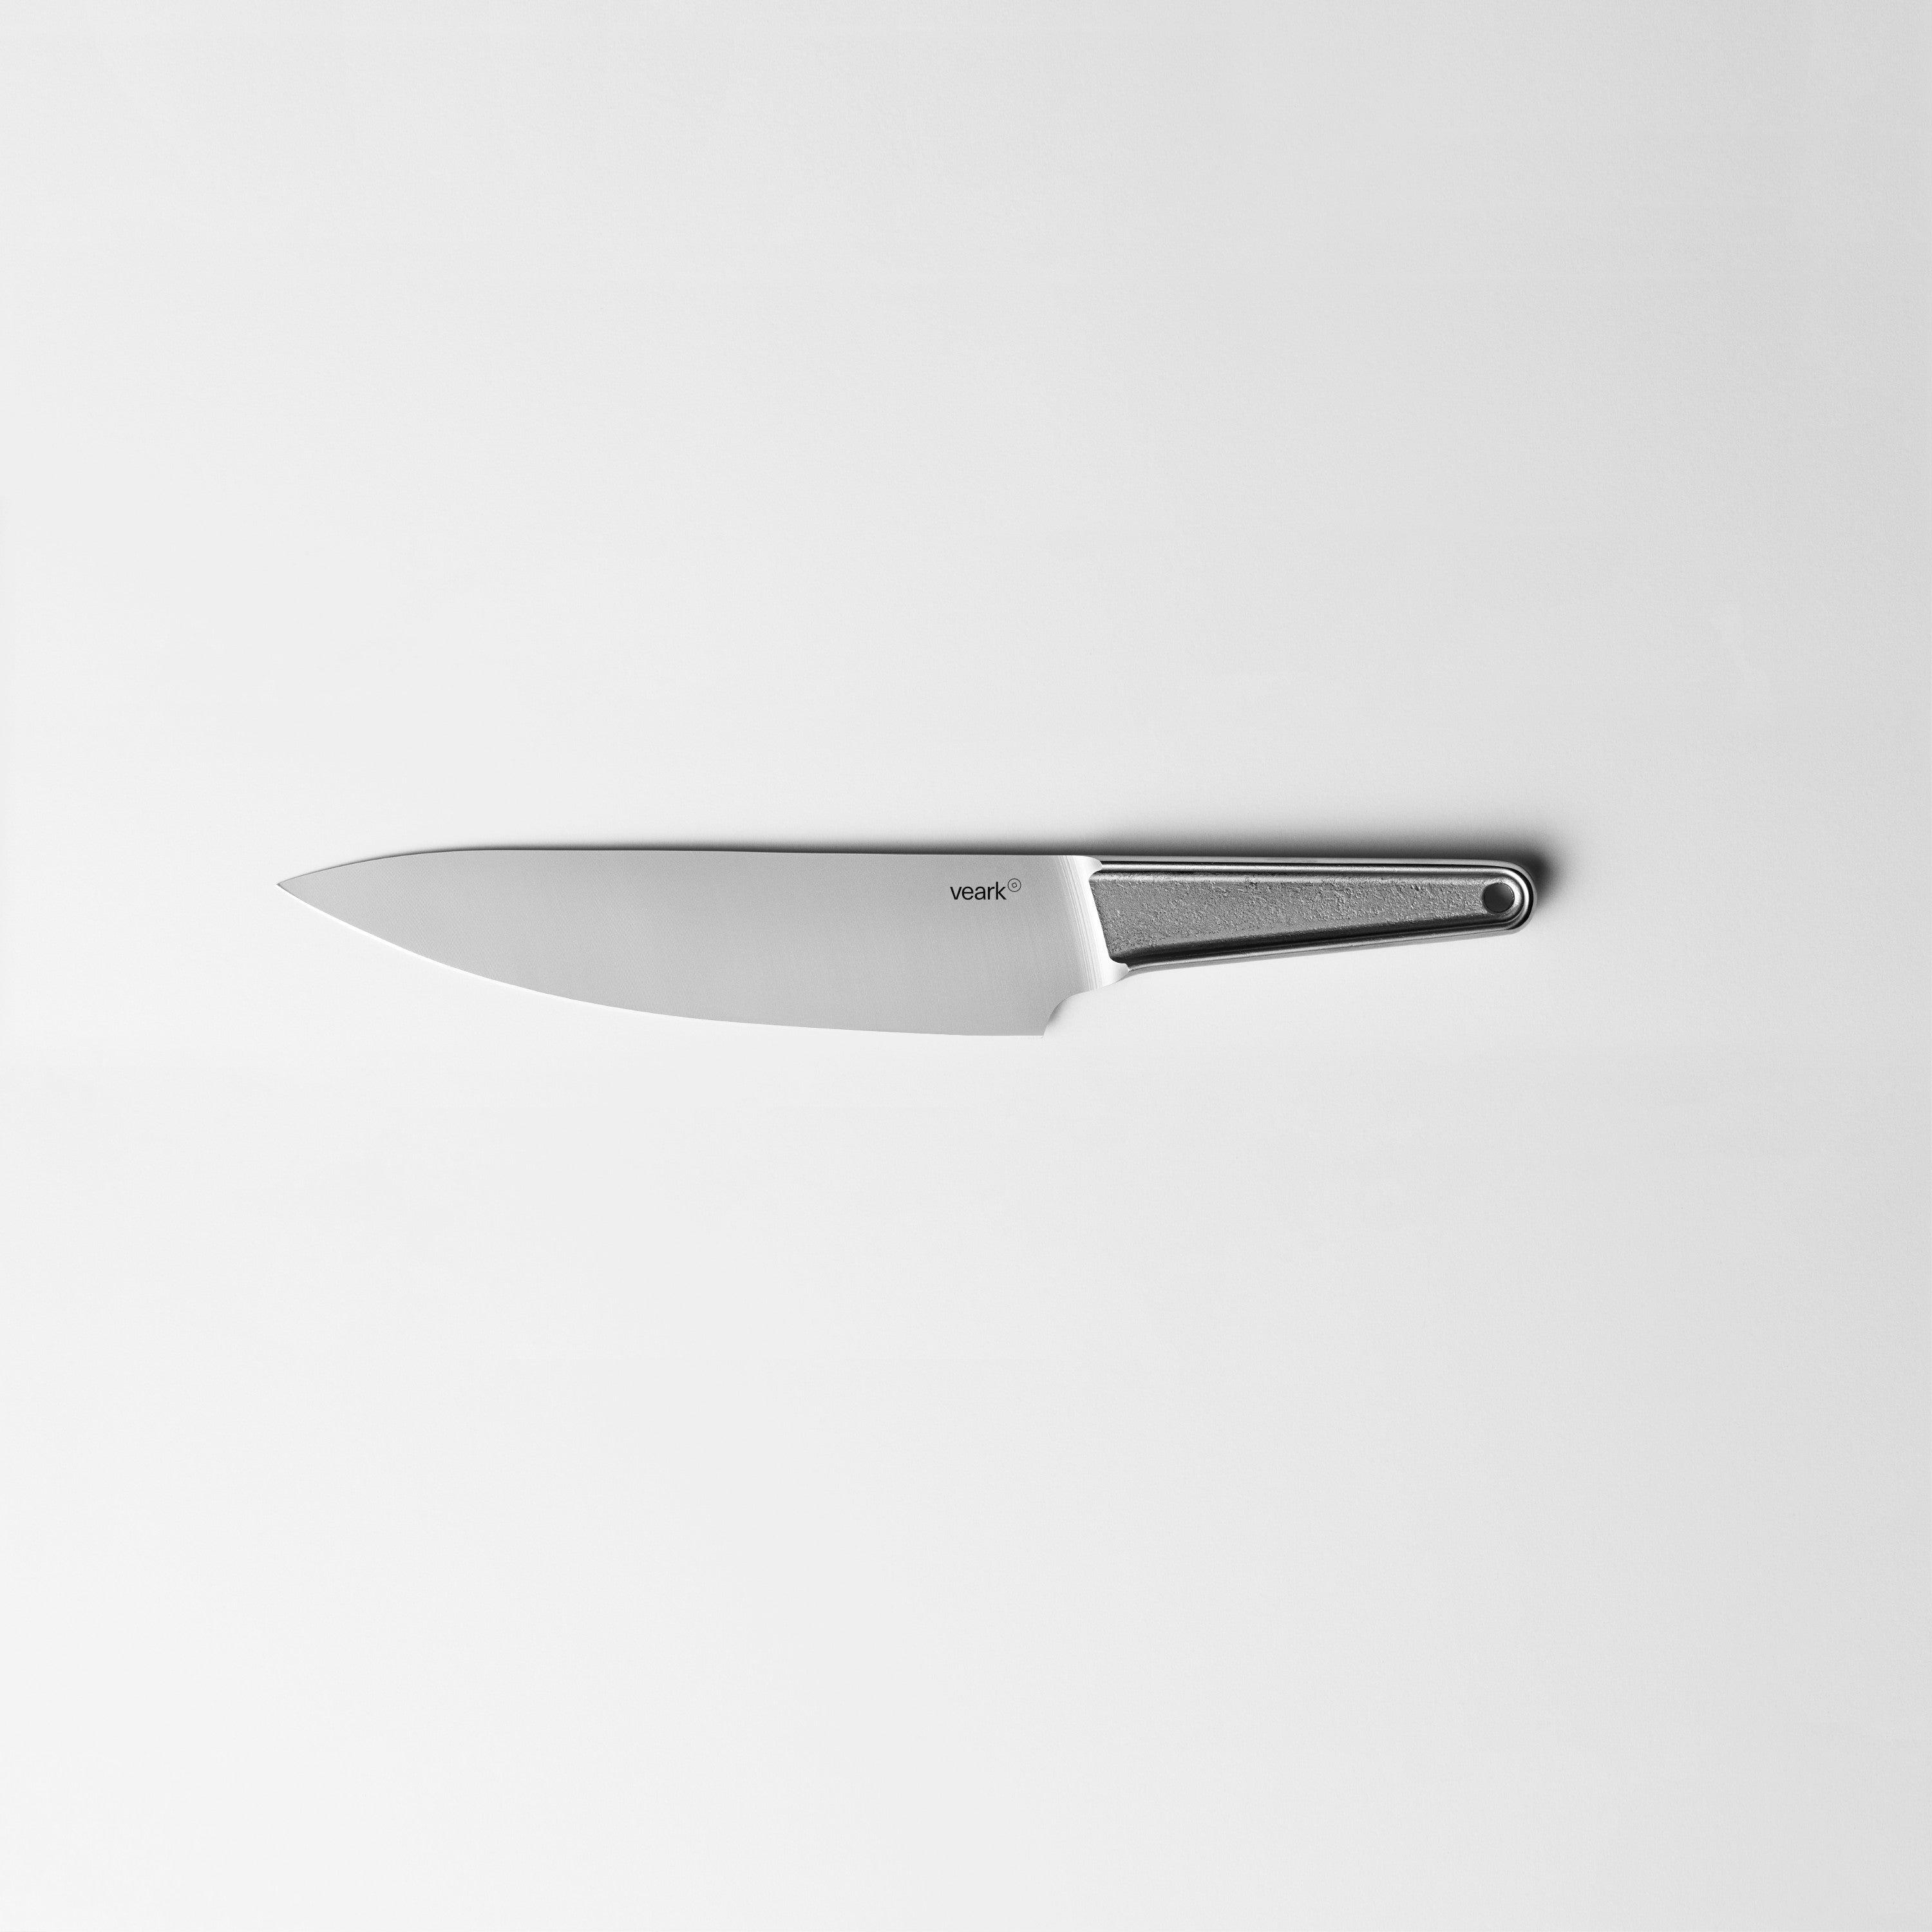Knife: (276, 839, 1537, 1039)
